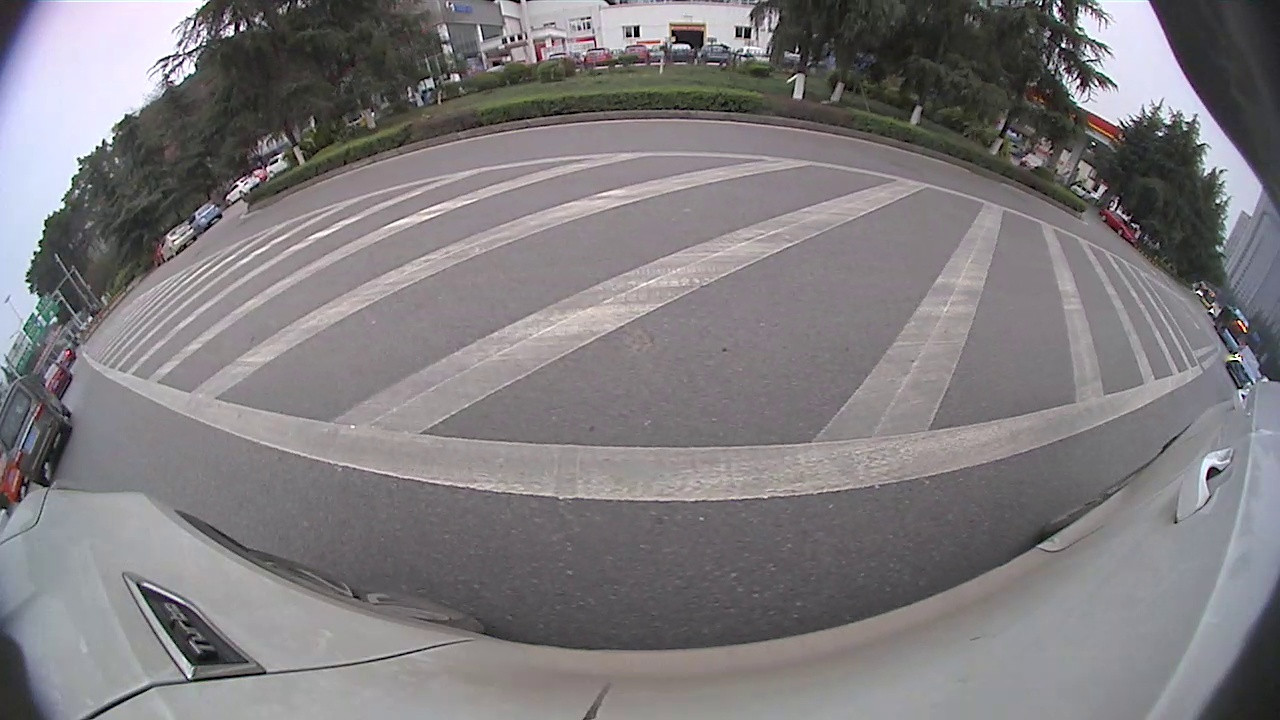car: (722, 14, 1007, 249), (449, 48, 678, 132), (115, 158, 257, 274), (1188, 397, 1277, 560), (0, 312, 64, 401), (1150, 332, 1218, 414), (1073, 234, 1125, 293), (1130, 293, 1179, 349)
front: (609, 93, 652, 134), (948, 206, 987, 250), (164, 224, 194, 261)
rear: (791, 153, 845, 211), (476, 98, 511, 135), (126, 249, 144, 277)
